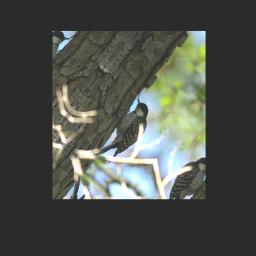Woodpecker: (94, 96, 159, 172)
